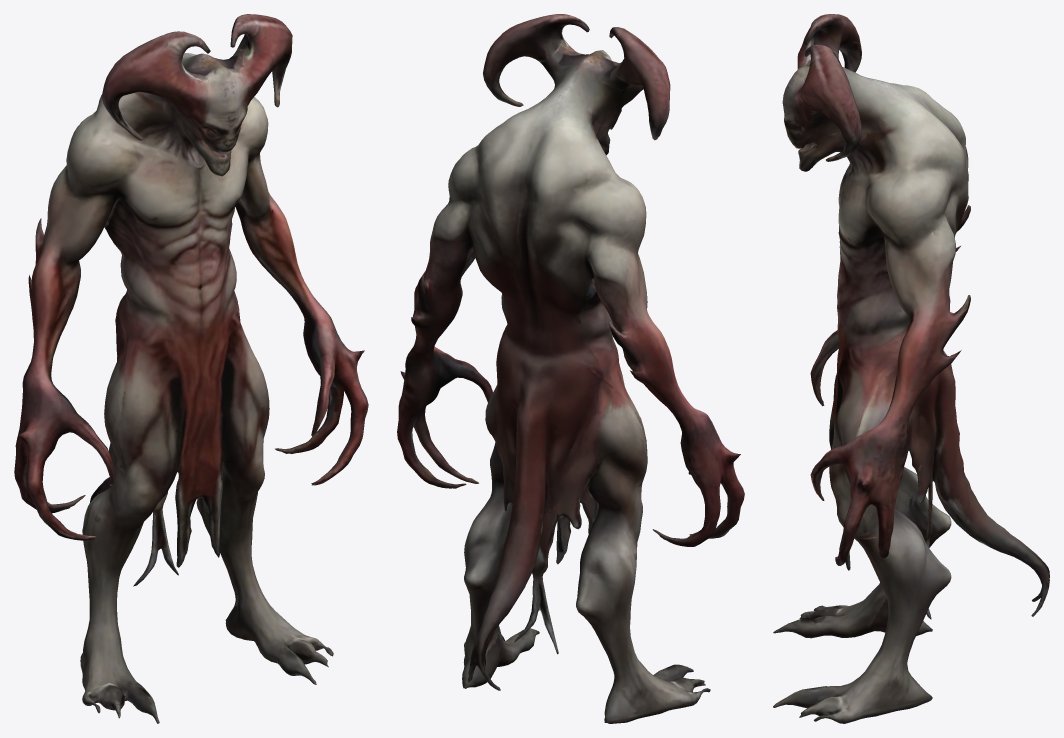
File: guardiao.glb
3 renders of one model, left to right at view 1: azimuth 30°, elevation 25°; view 2: azimuth 150°, elevation 25°; view 3: azimuth 270°, elevation 25°, orthographic. The views are drawn at different scales.
Visible parts, largest first — view 1: Mesh_0; view 2: Mesh_0; view 3: Mesh_0.
Part boxes in pixels (left/top/right/bottom): Mesh_0: left=14, top=14, right=368, bottom=723; Mesh_0: left=397, top=14, right=744, bottom=723; Mesh_0: left=773, top=14, right=1049, bottom=723.
Bounding box in the file's own units: 2.47 × 4.5 × 1.76.
Materials: 1 (1 with a texture image).
